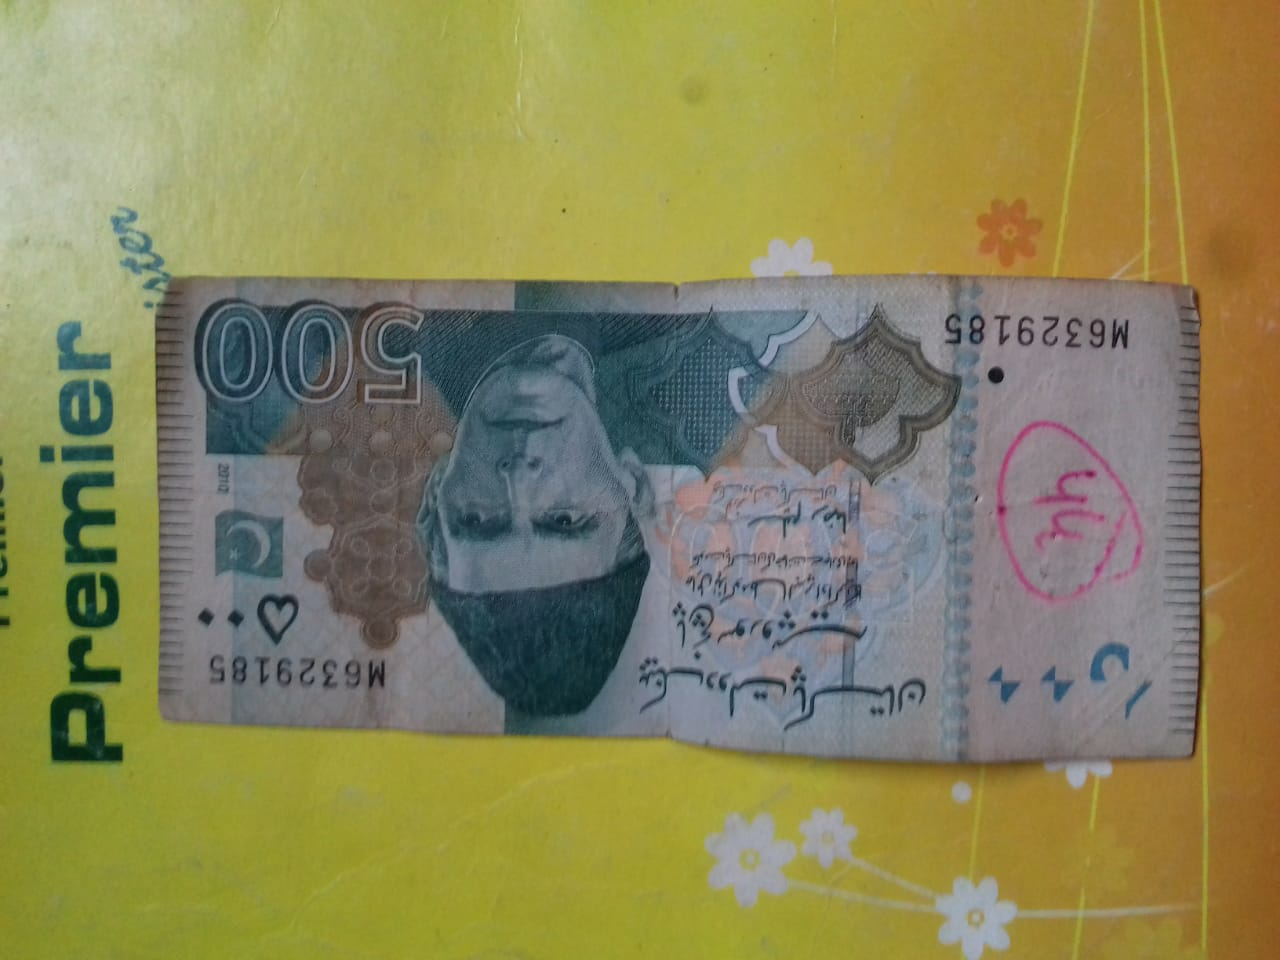500 rupee: (156, 261, 1208, 778)
